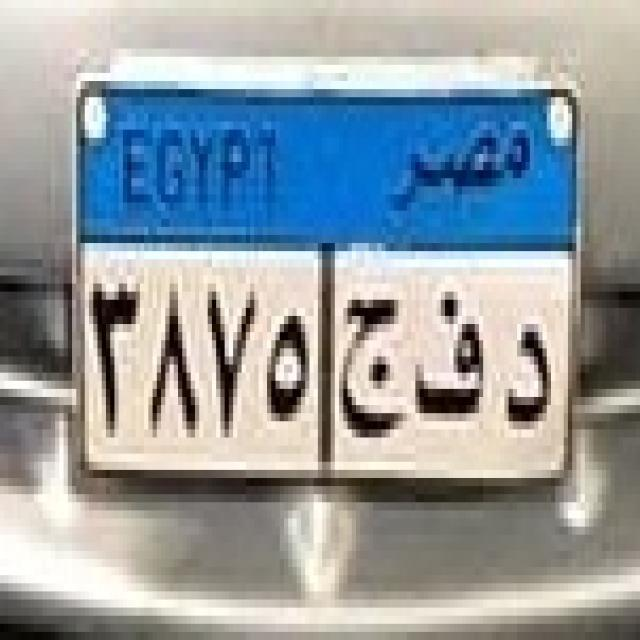3: (84, 269, 148, 446)
5: (260, 304, 316, 432)
7: (204, 281, 258, 444)
8: (146, 276, 203, 452)
F: (412, 277, 488, 423)
daal: (502, 305, 558, 447)
geem: (334, 285, 404, 450)
